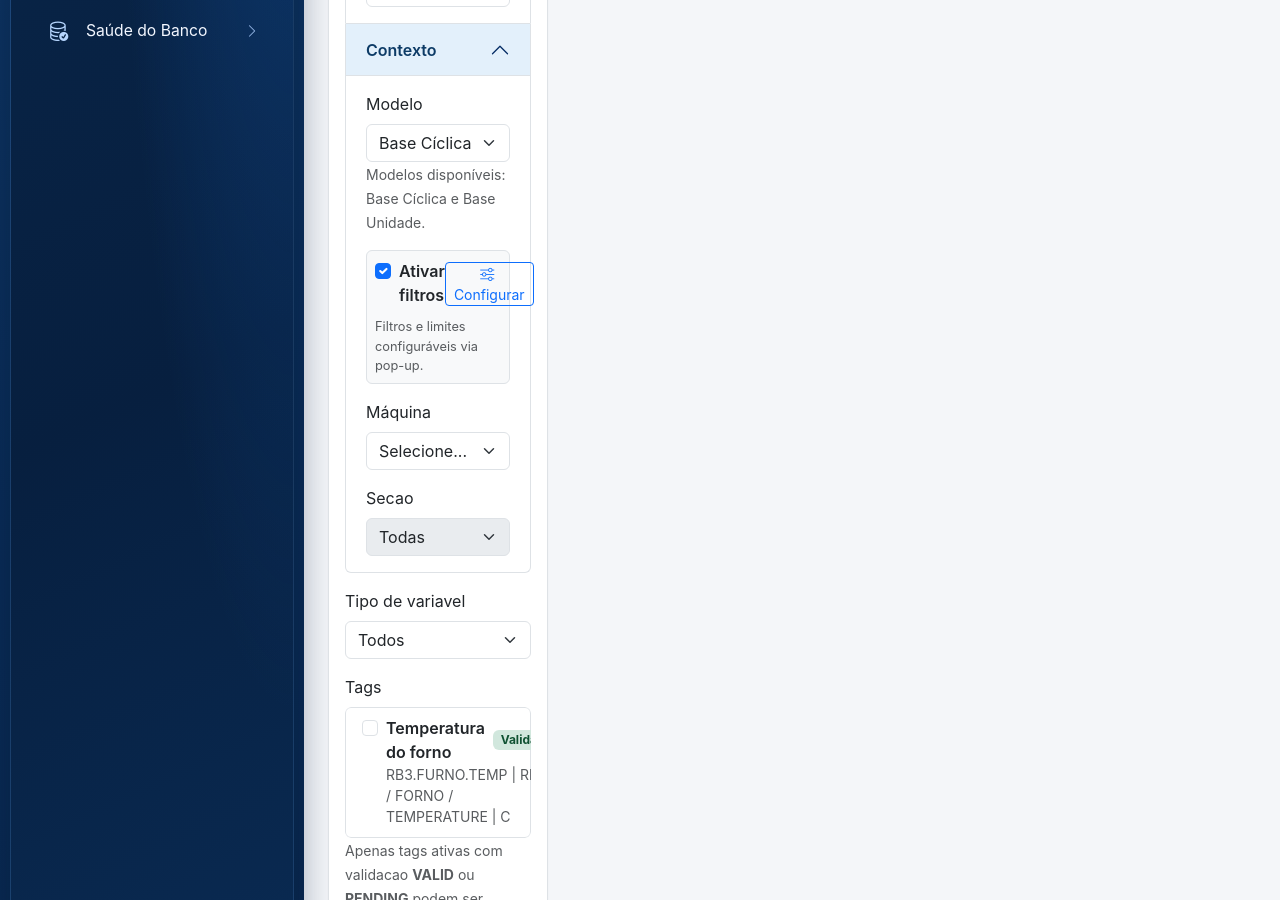
Test case: Visualização de Dados - Correções dos 8 Bugs › Bug 1 & Bug 5: Invalidação de parâmetros e persistência de título anterior › invalida resultado após alteração de filtros (qualidade, período, tags) e limpa aviso após nova consulta bem-sucedida
Later steps or results of the test are not shown.
(page scrolled)
Step 1. Select "RB1 - RB1" in the dropdown with test id "equipment-select" → (438, 451), box [366, 432, 510, 470]
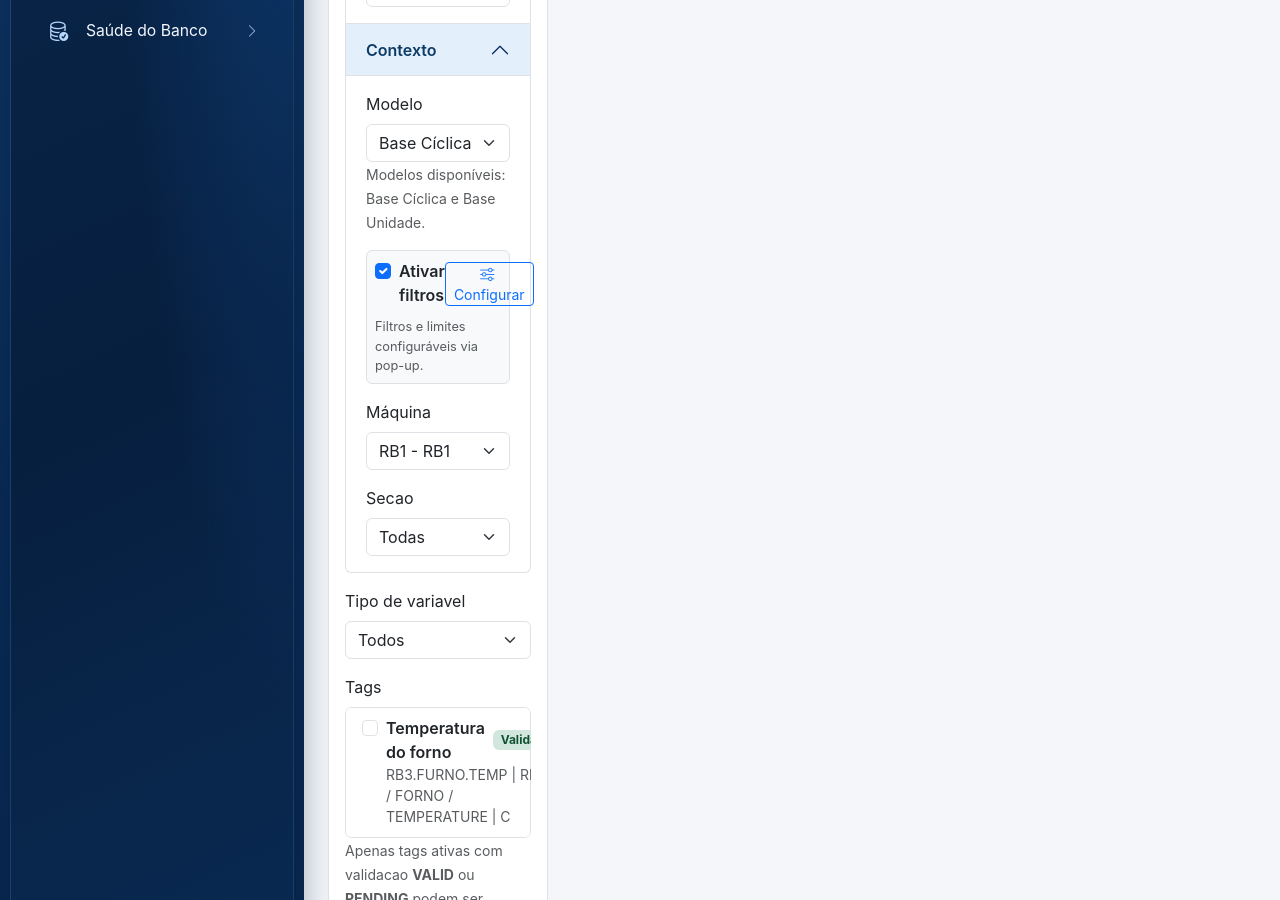
Step 2. Click the button with test id "tag-option-1" → (438, 772), box [345, 707, 531, 838]
(page scrolled)
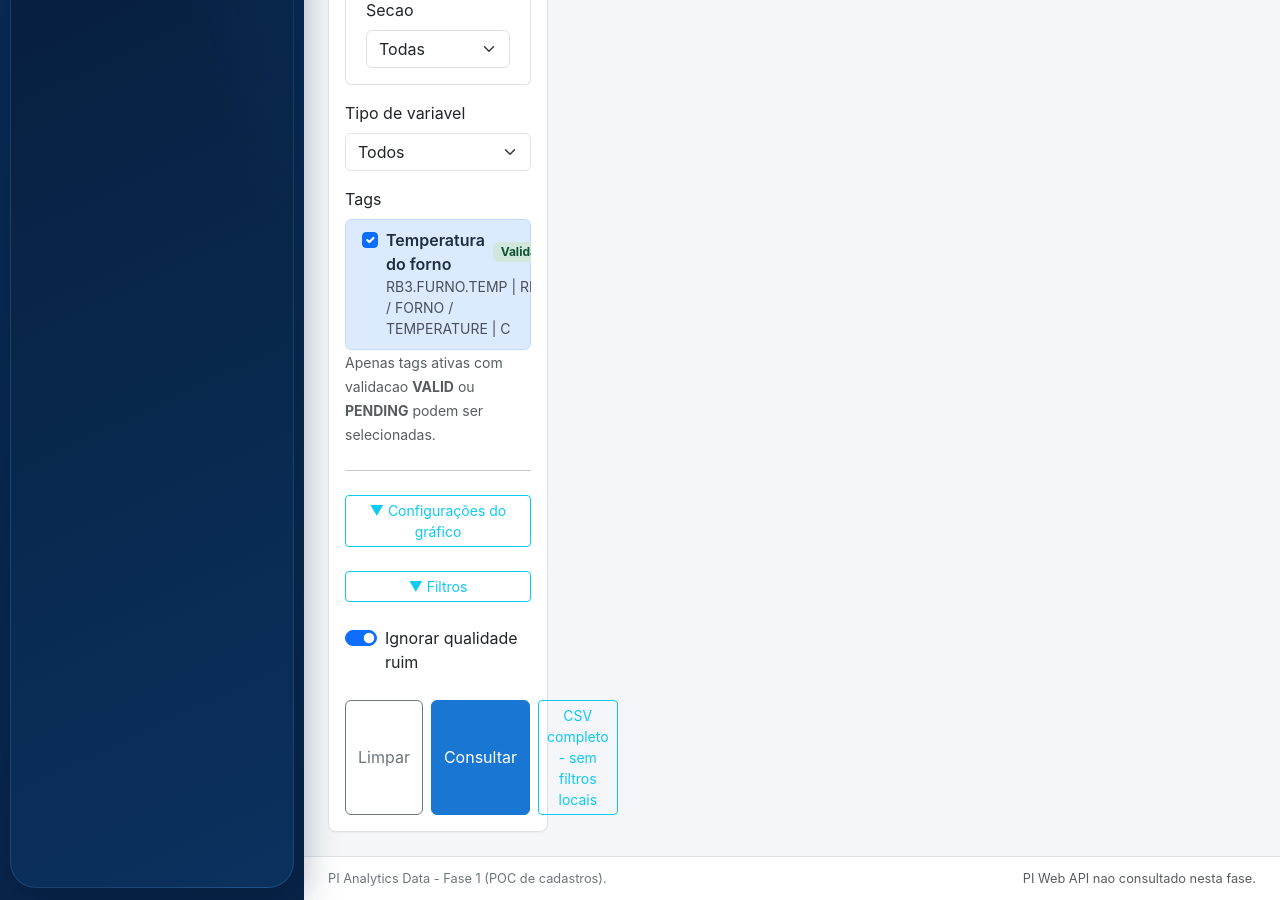
Step 3. Click the button with test id "filters-submit" → (480, 758), box [431, 700, 530, 815]
(page scrolled)
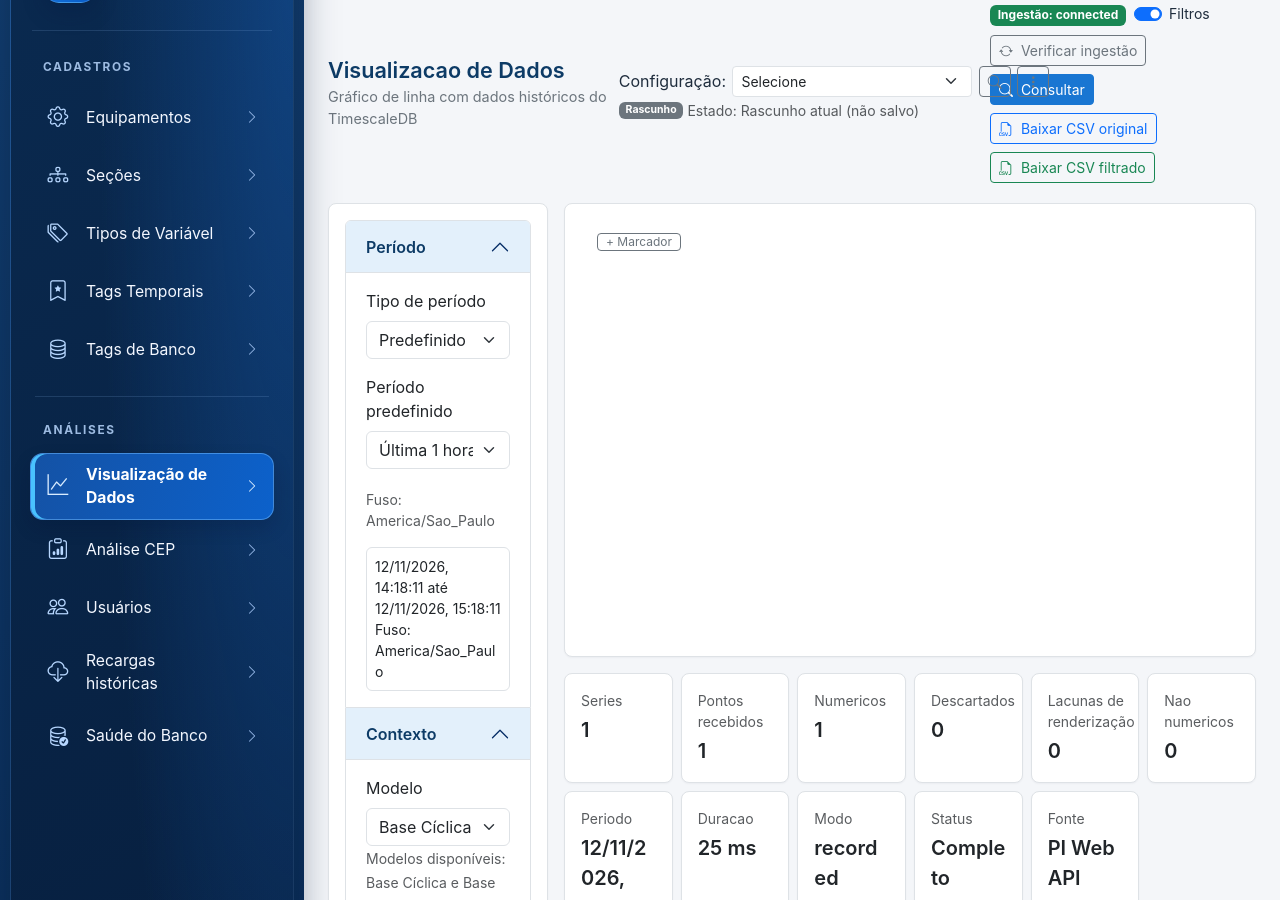
Now the element with test id "numeric-chart" is shown, box [597, 233, 681, 251]
